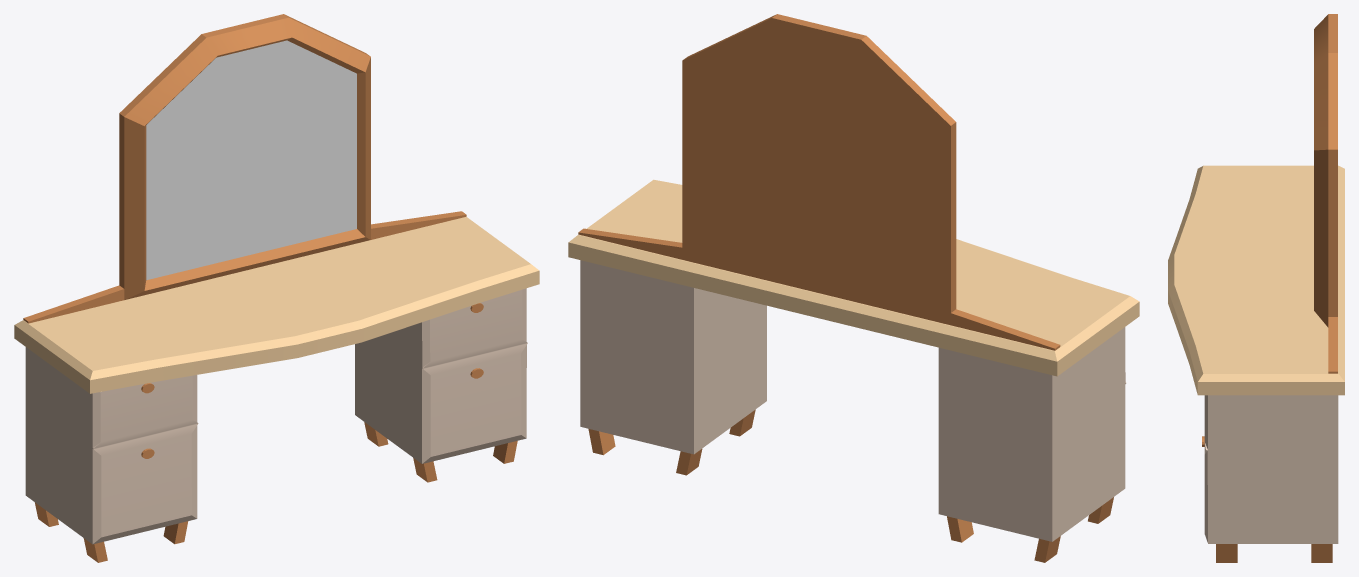
File: STM_Desk.fbx
The picture shows the model from 3 angles, left to right: view 1: azimuth 30°, elevation 25°; view 2: azimuth 150°, elevation 25°; view 3: azimuth 270°, elevation 25°; orthographic projection. The views are drawn at different scales.
Visible parts, largest first — view 1: pCube58; view 2: pCube58; view 3: pCube58.
Boxes of the visible parts, x1,y1,x2,y2 form: pCube58: [14, 14, 539, 562]; pCube58: [568, 14, 1139, 562]; pCube58: [1168, 14, 1344, 562].
Size of the model in its own units: 2.57 by 2.41 by 0.898.
